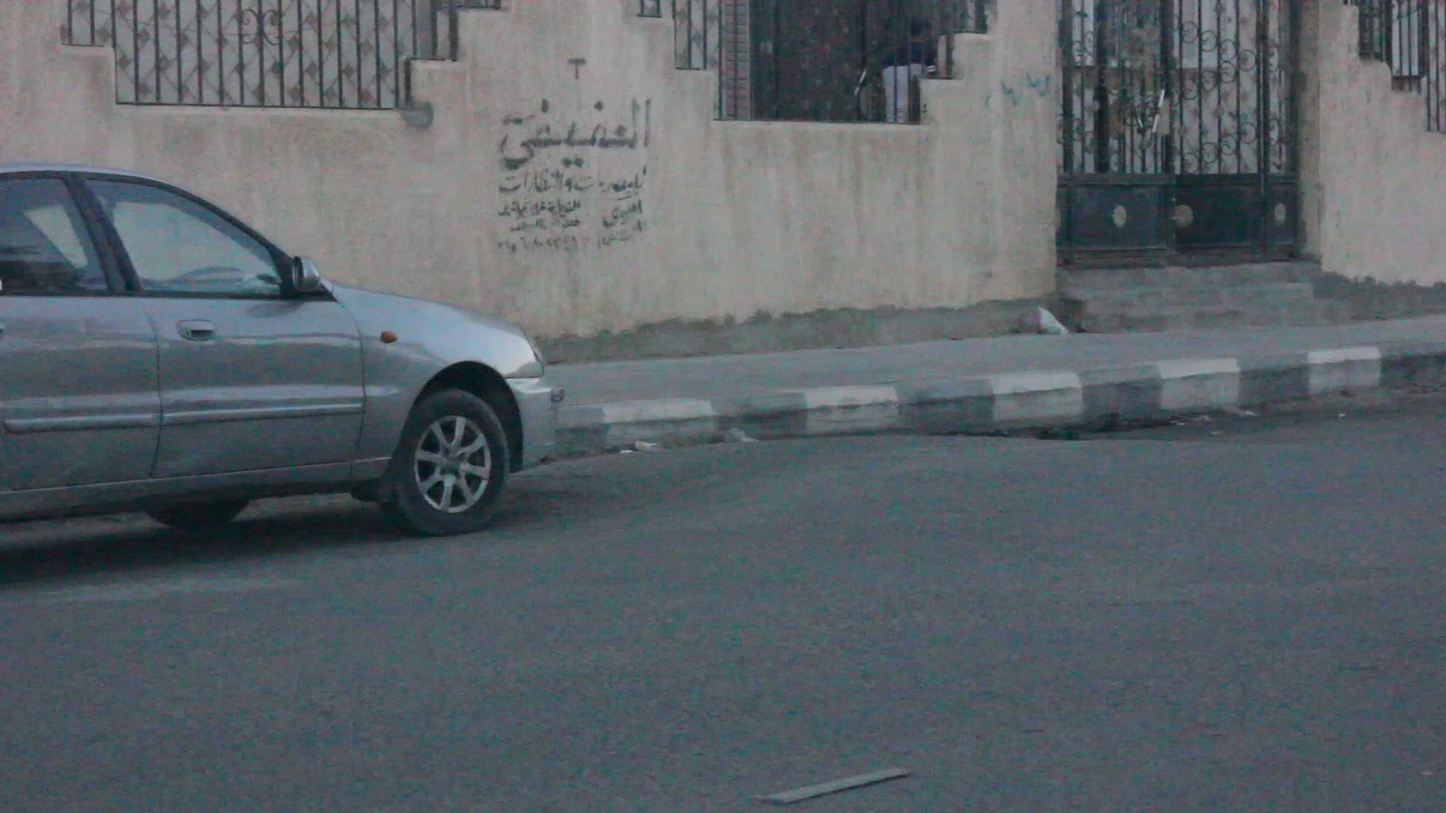Bump: (505, 431, 1244, 513)
